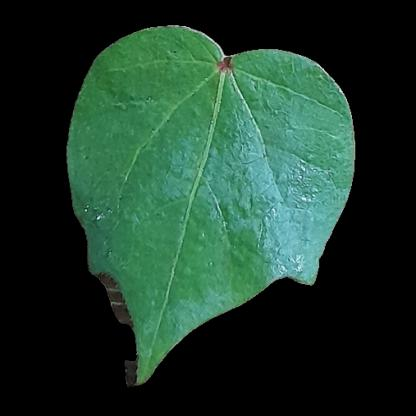healthy: (105, 65, 265, 283), (271, 77, 342, 221)
